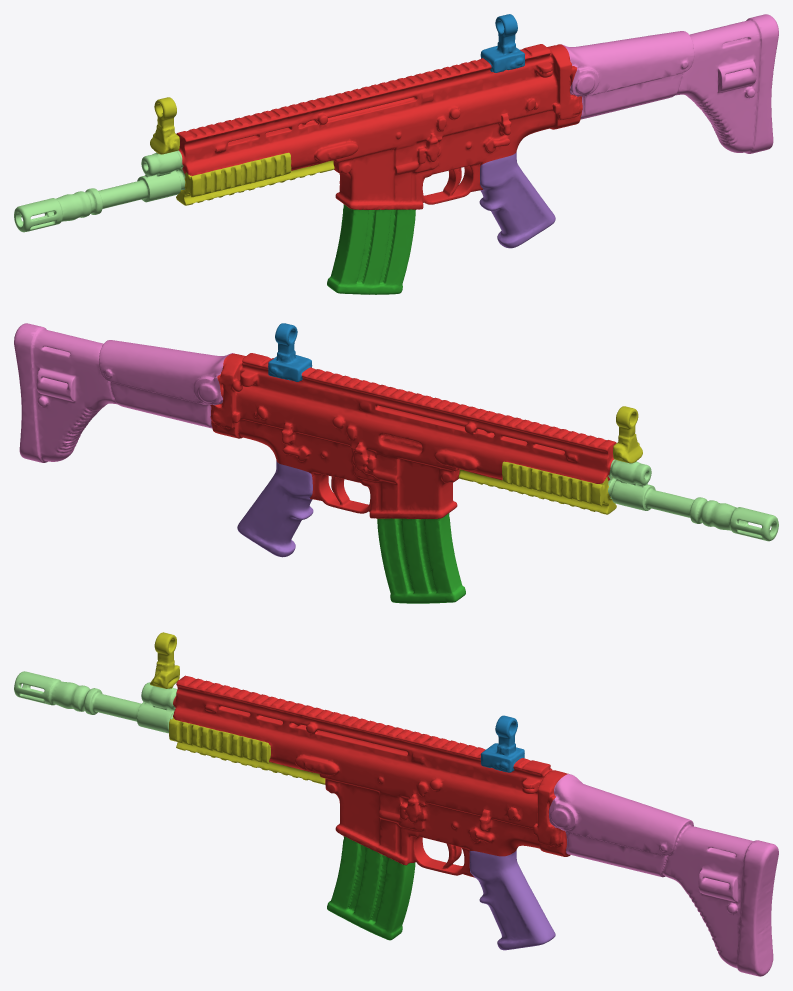
The model's file is desert-scar.glb.
The picture shows the model from 3 angles, top to bottom: view 1: azimuth 30°, elevation 25°; view 2: azimuth 150°, elevation 25°; view 3: azimuth 330°, elevation 25°; orthographic projection.
Parts seen in each view (by area): view 1: model_part9, model_part4, model_part1, model_part8, model_part2, model_part6, model_part3, model_part7, model_part0; view 2: model_part9, model_part4, model_part1, model_part8, model_part2, model_part5, model_part3, model_part7, model_part0; view 3: model_part9, model_part4, model_part1, model_part2, model_part8, model_part6, model_part3, model_part7, model_part0.
Boxes of the visible parts, <box> form: model_part9: <box>176,44,582,209</box>; model_part4: <box>561,14,778,153</box>; model_part1: <box>327,204,415,294</box>; model_part8: <box>14,150,185,232</box>; model_part2: <box>479,152,555,248</box>; model_part6: <box>184,152,291,197</box>; model_part3: <box>480,14,524,72</box>; model_part7: <box>176,160,334,205</box>; model_part0: <box>150,97,179,154</box>; model_part9: <box>210,353,616,519</box>; model_part4: <box>14,323,234,462</box>; model_part1: <box>377,513,465,603</box>; model_part8: <box>608,459,778,541</box>; model_part2: <box>237,460,313,557</box>; model_part5: <box>502,461,612,506</box>; model_part3: <box>268,323,312,381</box>; model_part7: <box>458,469,616,514</box>; model_part0: <box>613,406,642,463</box>; model_part9: <box>173,675,570,877</box>; model_part4: <box>549,774,778,976</box>; model_part1: <box>327,836,415,940</box>; model_part2: <box>469,850,555,950</box>; model_part8: <box>14,671,177,733</box>; model_part6: <box>169,717,270,763</box>; model_part3: <box>480,715,524,772</box>; model_part7: <box>176,742,325,784</box>; model_part0: <box>150,632,179,688</box>.
Bounding box in the file's own units: 0.9 × 0.2817 × 0.0558.
